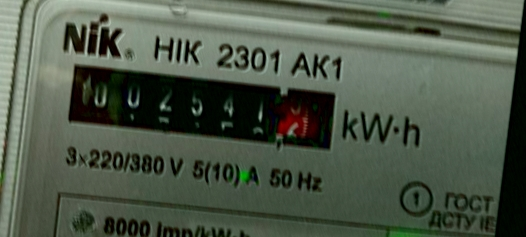0: (121, 76, 144, 111), (90, 78, 111, 109)
1: (248, 89, 268, 124)
2: (152, 79, 177, 115)
4: (218, 86, 239, 119)
5: (186, 85, 205, 119)
6: (282, 117, 300, 140)
screen: (49, 45, 358, 171)
